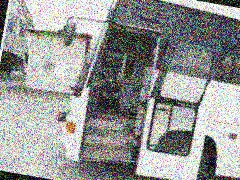bus: (51, 0, 240, 180)
